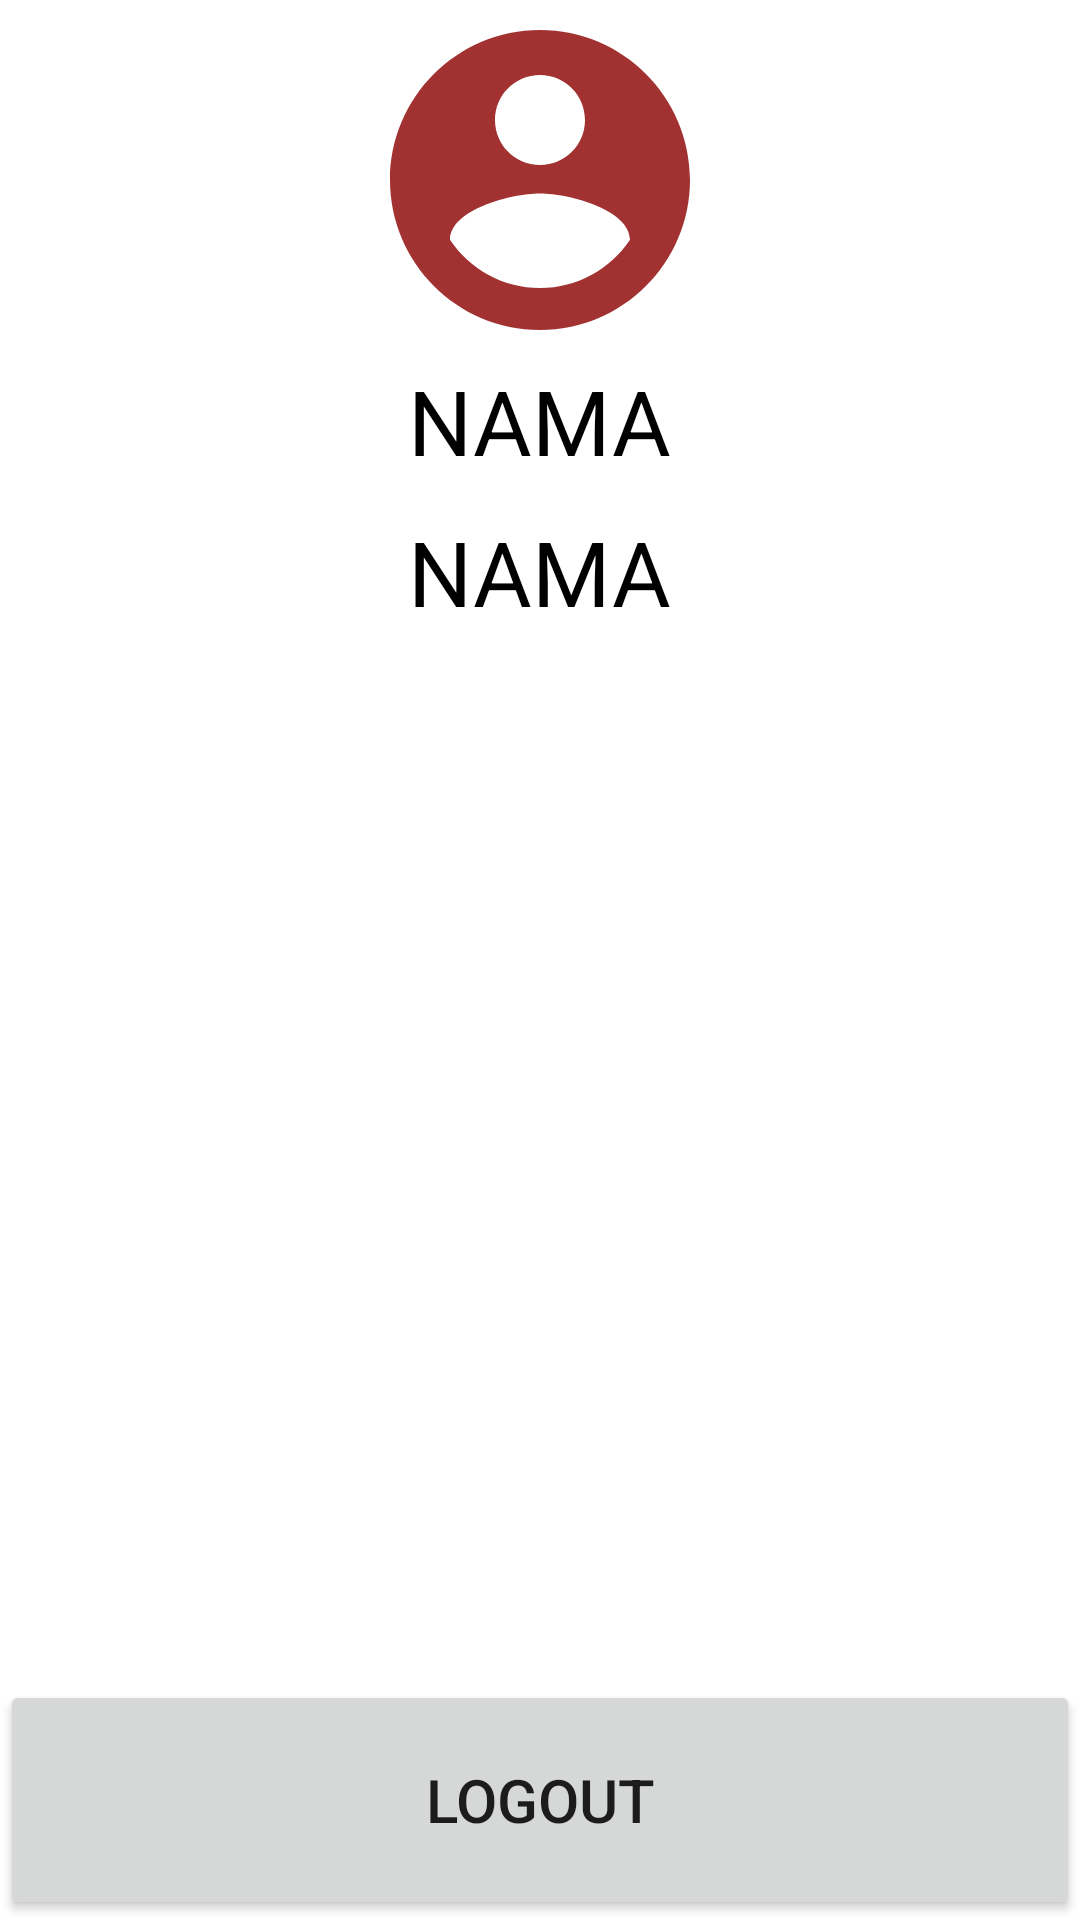

Icon bounding boxes for this 1080x1920 phone screenshot, format bbox(x1, y1, x2, y2):
account circle: bbox(390, 30, 690, 330)
